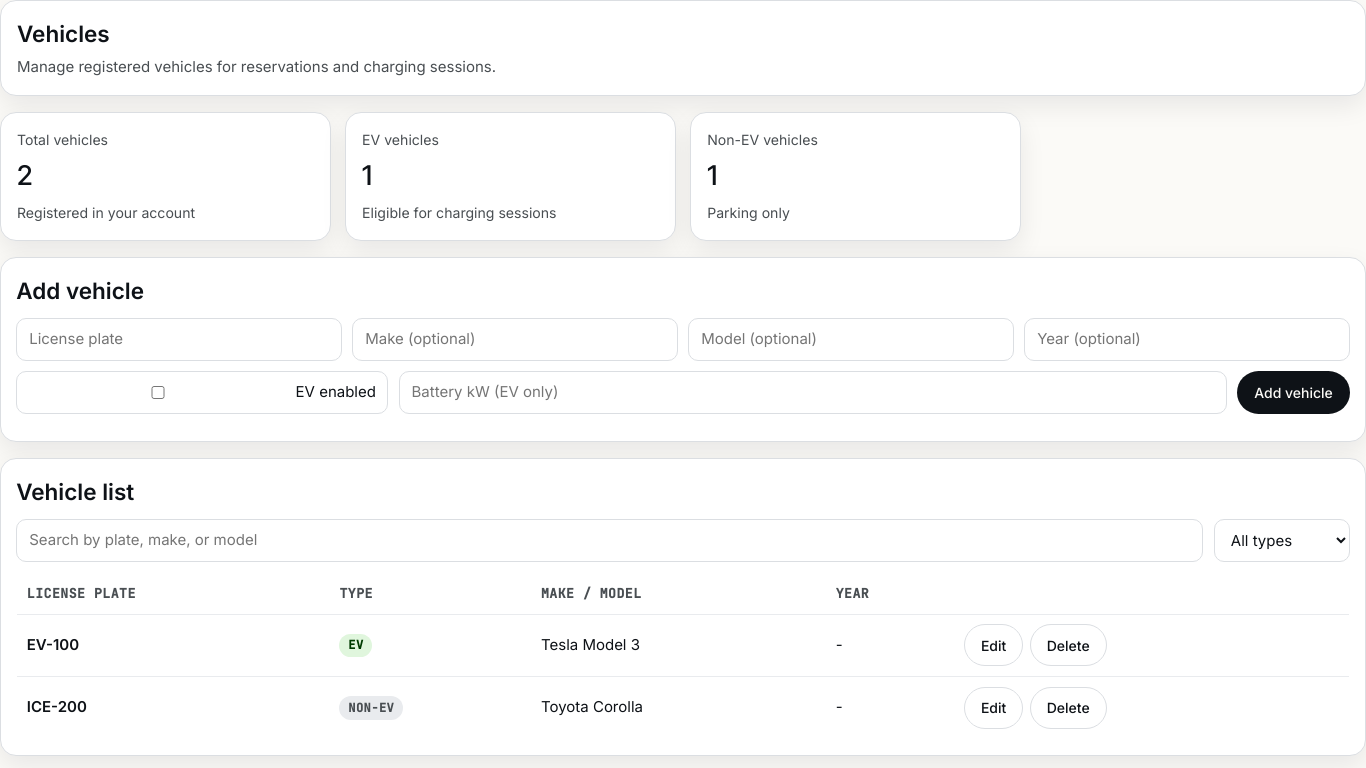
Test: VehiclesPage › renders vehicles and supports filtering
The image size is (1366, 768).
Expected: the text "EV-100" is shown, [27,635,79,654]
Expected: the text "ICE-200" is shown, [27,698,87,716]
Step 1. Select "EV only" in the dropdown showing "All types" → (1282, 540), box [1214,519,1350,562]
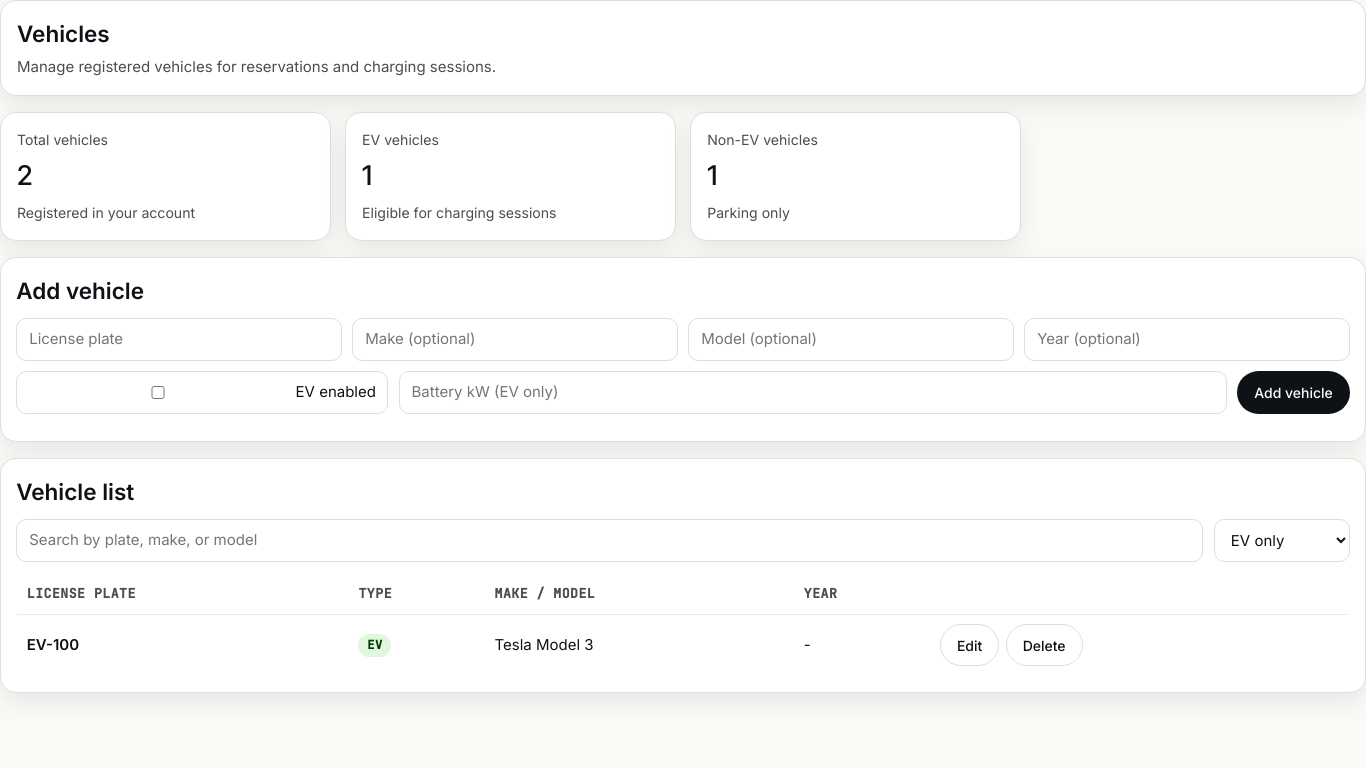
Expected: the text "EV-100" is shown, [27,635,79,654]
Expected: the text "ICE-200" is gone
